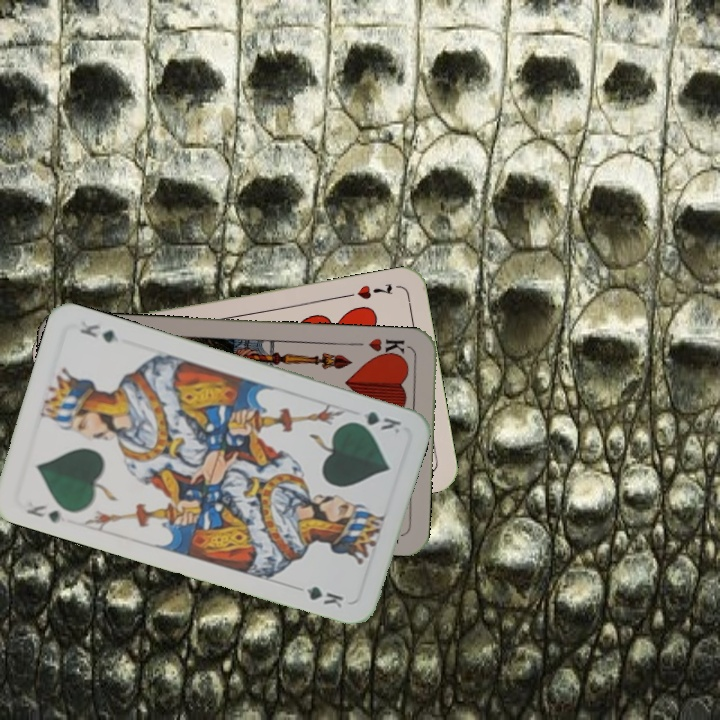GK: (346, 407, 404, 436), (22, 501, 68, 526)
H7: (341, 279, 396, 302)
HK: (365, 334, 412, 361)
